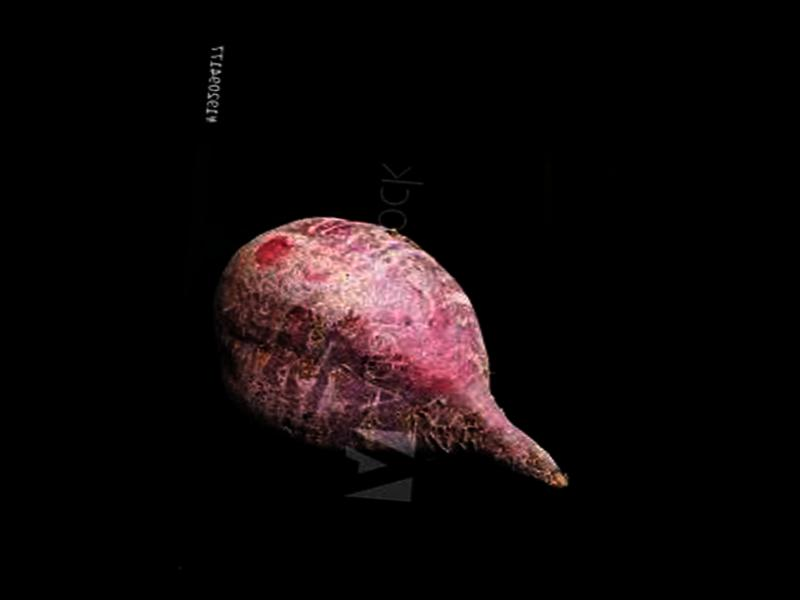Beet: (204, 206, 588, 486)
